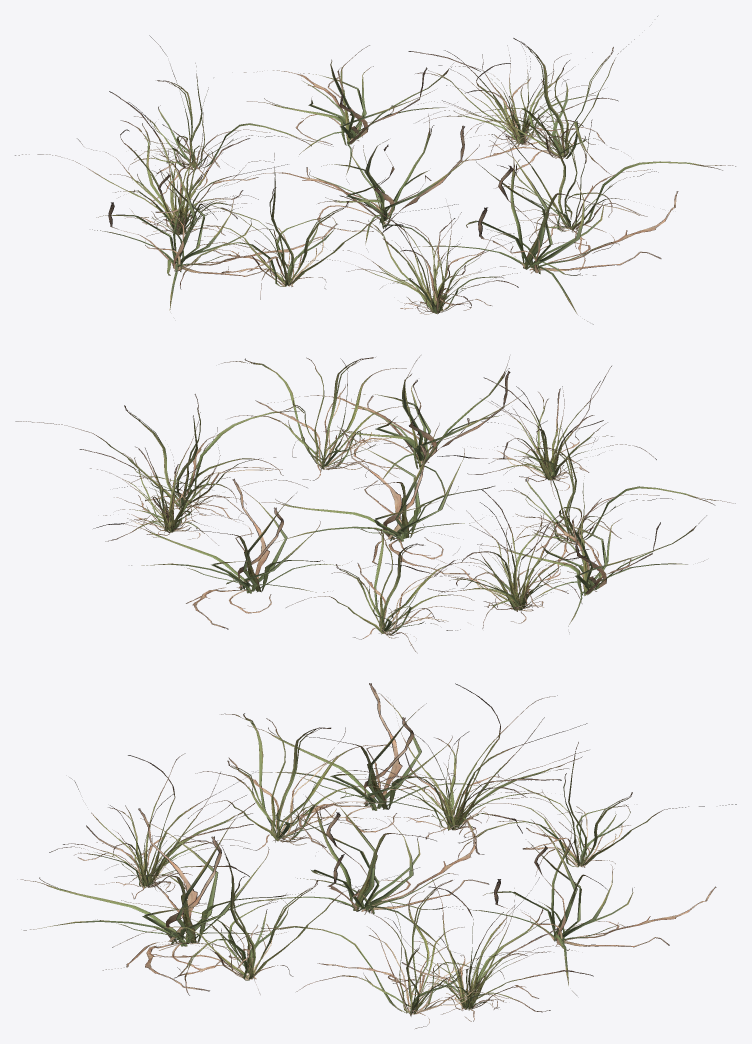
The model's file is Grass_Patch_Dense.fbx.
3 views of the same model, one above another, from view 1: azimuth 30°, elevation 25°; view 2: azimuth 150°, elevation 25°; view 3: azimuth 270°, elevation 25° (orthographic). The views are drawn at different scales.
Parts seen in each view (by area): view 1: Grass_Patch_Dense; view 2: Grass_Patch_Dense; view 3: Grass_Patch_Dense.
Part boxes in pixels (bbox=[...]): Grass_Patch_Dense: bbox=[15, 16, 735, 324]; Grass_Patch_Dense: bbox=[15, 355, 735, 653]; Grass_Patch_Dense: bbox=[20, 683, 736, 1028].
Bounding box in the file's own units: 0.72 × 0.13 × 0.6934.
Materials: 1 (1 with a texture image).
